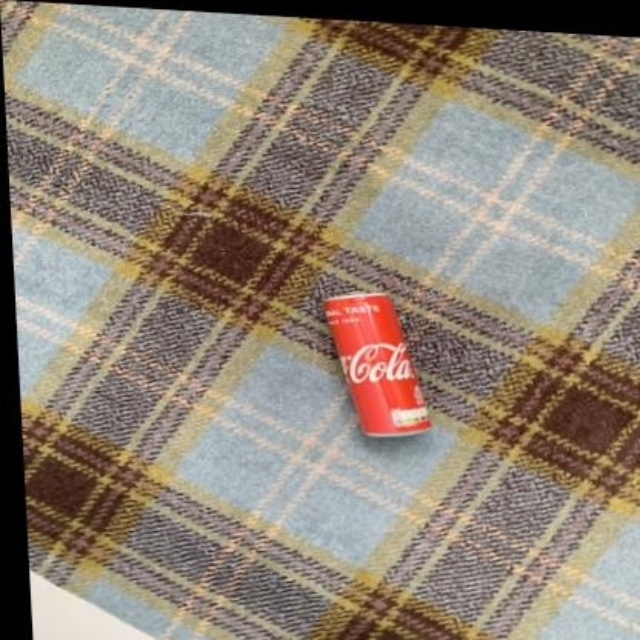trash: (325, 294, 429, 435)
